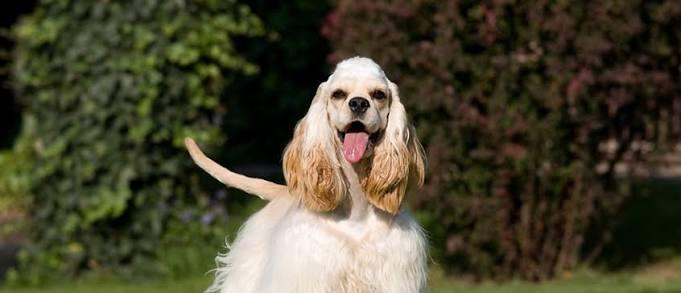adult_dog: (181, 56, 434, 293)
